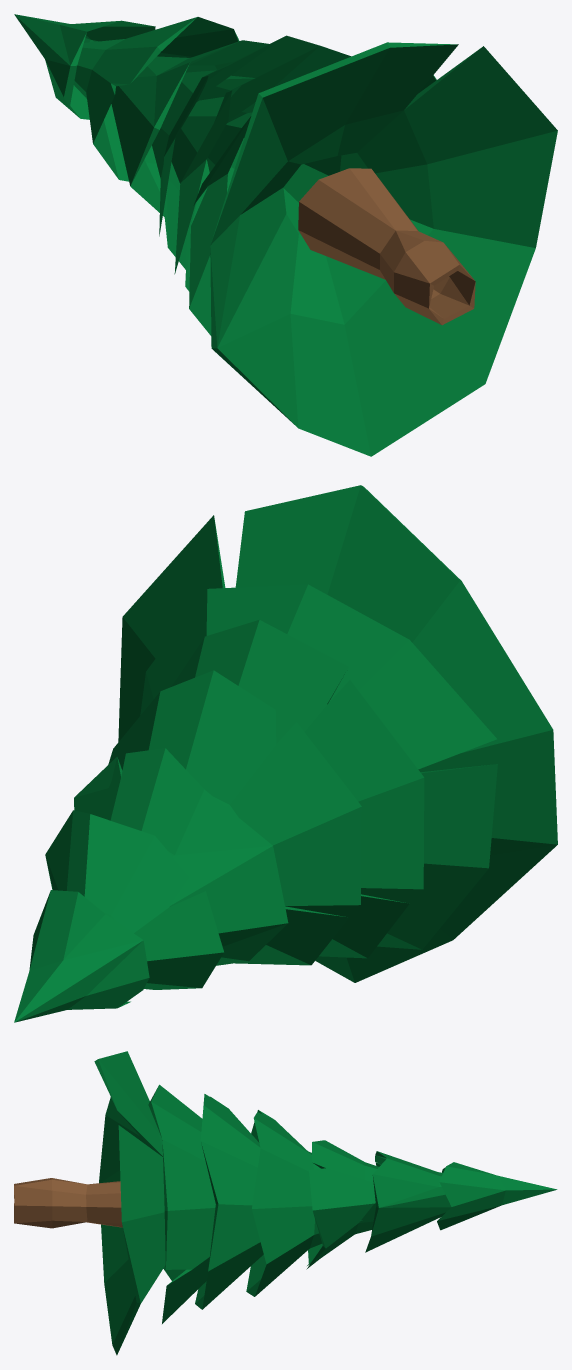
Rendered from Tree02.fbx.
The picture shows the model from 3 angles, top to bottom: view 1: azimuth 30°, elevation 25°; view 2: azimuth 150°, elevation 25°; view 3: azimuth 270°, elevation 25°; orthographic projection. The views are drawn at different scales.
Visible parts, largest first — view 1: Circle.003; view 2: Circle.003; view 3: Circle.003.
Boxes of the visible parts, left/top/right/bottom form: Circle.003: left=14, top=14, right=557, bottom=456; Circle.003: left=14, top=485, right=557, bottom=1022; Circle.003: left=14, top=1051, right=557, bottom=1355.
Bounding box in the file's own units: 172 × 192 × 329.
